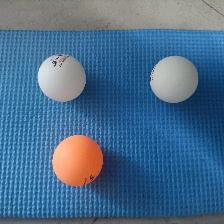WhiteBall: (148, 55, 199, 103), (37, 53, 85, 102)
YellowBall: (52, 134, 103, 185)
